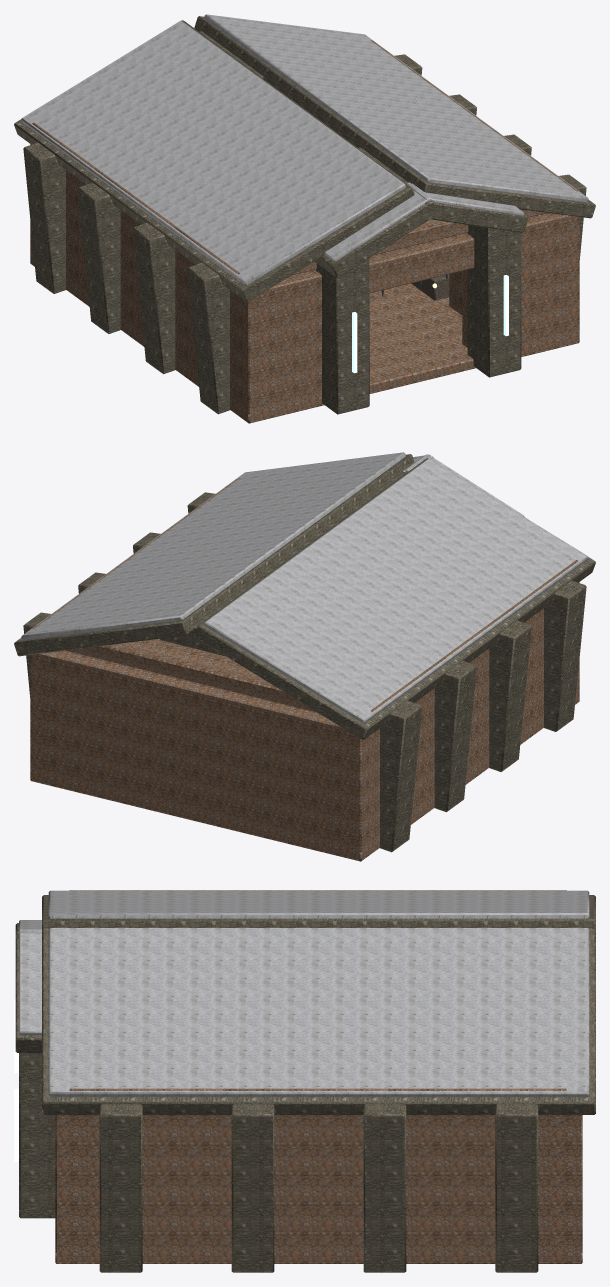
The model's file is env_oathgrave_tomb.glb.
3 renders of one model, top to bottom at view 1: azimuth 30°, elevation 25°; view 2: azimuth 150°, elevation 25°; view 3: azimuth 270°, elevation 25°, orthographic. The views are drawn at different scales.
Visible parts, largest first — view 1: ENV_Frostheim_OathgraveTomb; view 2: ENV_Frostheim_OathgraveTomb; view 3: ENV_Frostheim_OathgraveTomb.
Part boxes in pixels (<box>): ENV_Frostheim_OathgraveTomb: <box>14,14,595,423</box>; ENV_Frostheim_OathgraveTomb: <box>14,452,595,861</box>; ENV_Frostheim_OathgraveTomb: <box>14,890,595,1272</box>.
Size of what is drawn, in the model's own units: 16.14 by 8.3 by 17.65.
Materials: 8 (6 with a texture image).
